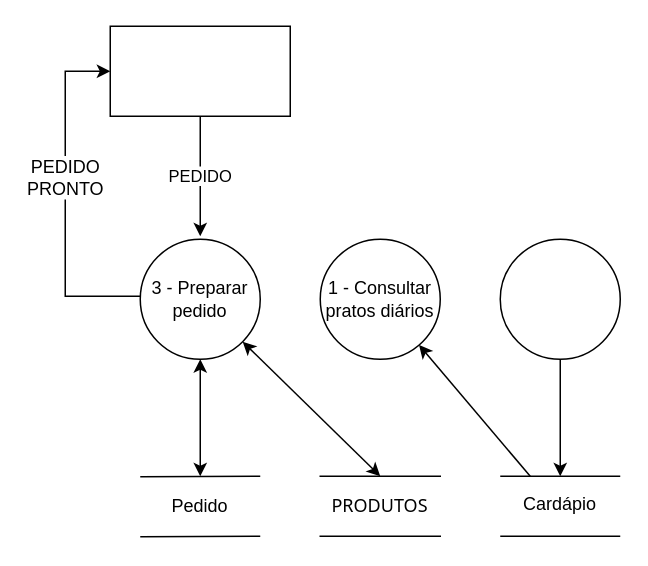
This 648x566 diagram has some shape labels left out. Here are the shapes that lost their labels. From the top down, the centre of each, then its label:
the point at 199,70: ATENDIMENTO
the point at 559,298: 2- Atualizar cardápio
